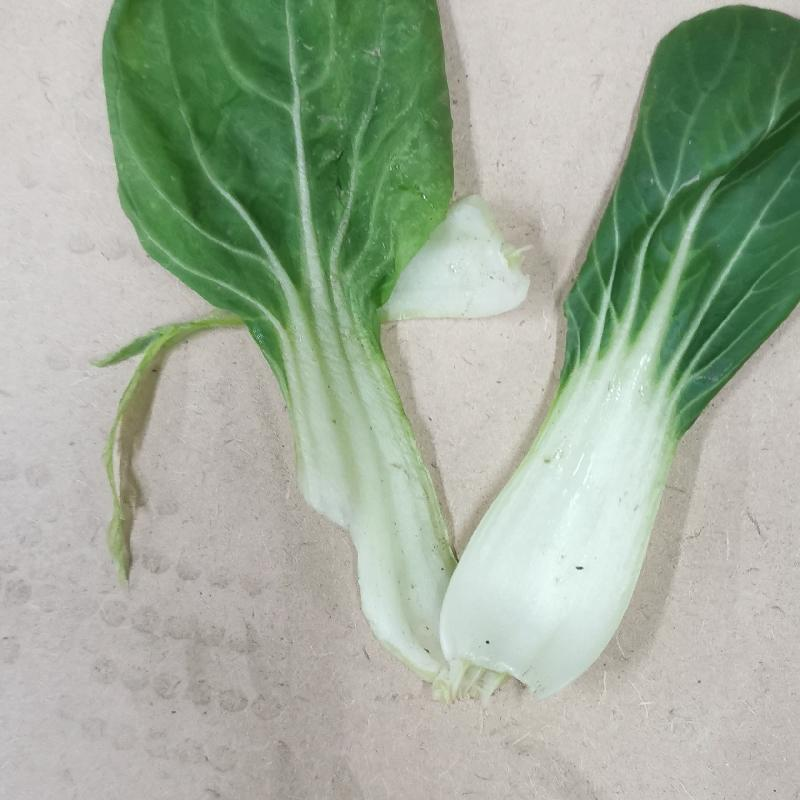green vegatable: (78, 0, 467, 668), (479, 6, 800, 693)
